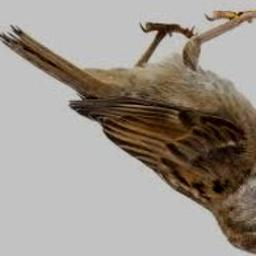Sparrow: (0, 11, 256, 254)
